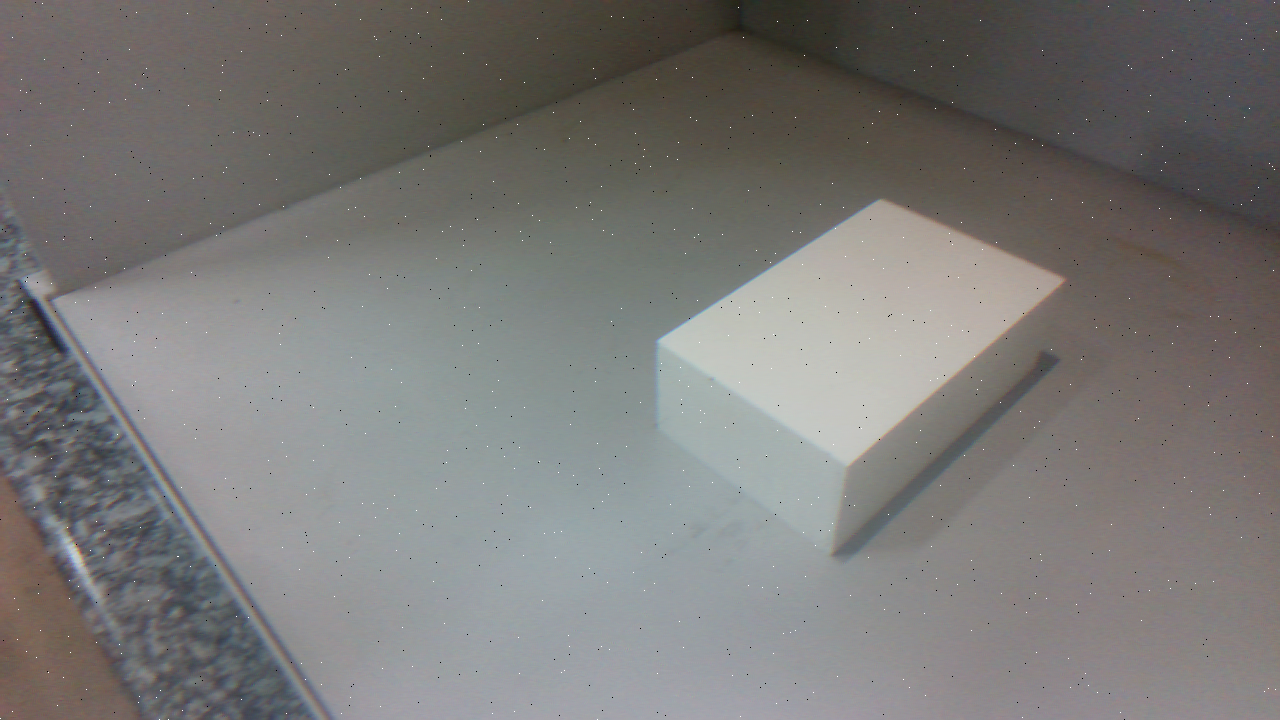Retangulo: (657, 200, 1063, 552)
